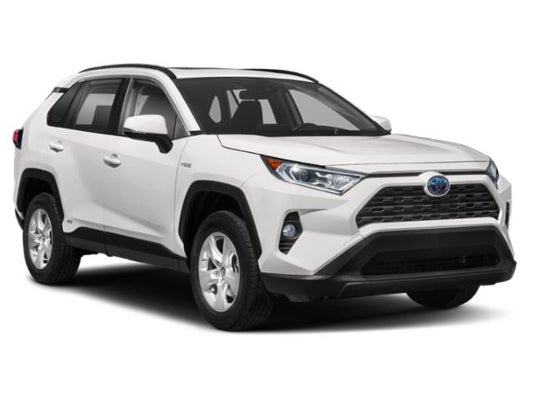Toyota RAV-4: (11, 61, 518, 333)
